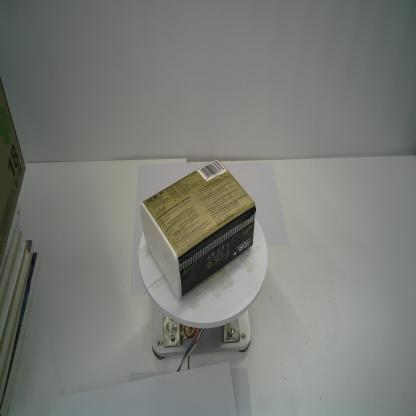Tissue: (138, 157, 258, 295)
